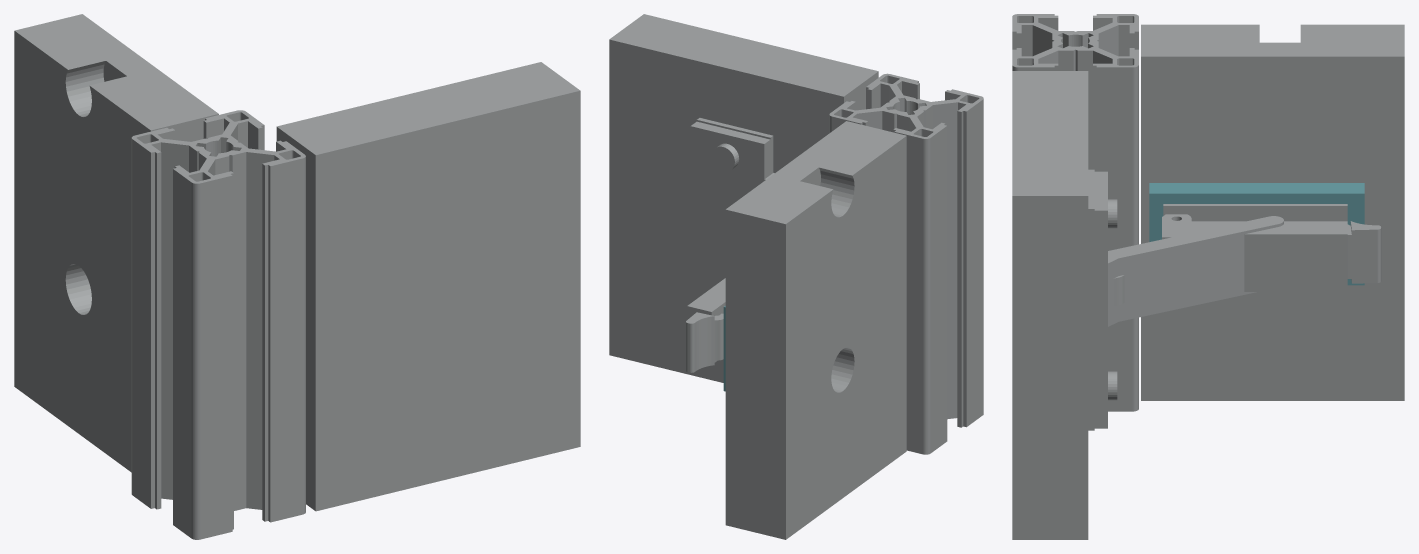
The model's file is hinge-context.glb.
3 views of the same model, side by side, from view 1: azimuth 30°, elevation 25°; view 2: azimuth 150°, elevation 25°; view 3: azimuth 270°, elevation 25° (orthographic). The views are drawn at different scales.
Parts seen in each view (by area): view 1: Left-door-face-18, Post-4-23, Left-pegboard-18; view 2: Left-pegboard-18, Left-door-face-18, Post-4-23, Blum-1-cup-envelope, Blum-1-factory-clip, Blum-1-cup-screw-915.5, Blum-1-70T3507.21-envelope; view 3: Left-pegboard-18, Left-door-face-18, Post-4-23, Blum-1-housing-envelope, Blum-1-factory-clip, Blum-1-spacer-6, Blum-1-cup-envelope, Blum-1-plate-envelope, Blum-1-70T3507.21-envelope.
Boxes of the visible parts, x1=… form: Left-door-face-18: x1=276, y1=62, x2=580, y2=511; Post-4-23: x1=131, y1=110, x2=305, y2=539; Left-pegboard-18: x1=14, y1=14, x2=218, y2=472; Left-pegboard-18: x1=725, y1=121, x2=906, y2=539; Left-door-face-18: x1=609, y1=14, x2=878, y2=382; Post-4-23: x1=829, y1=73, x2=983, y2=454; Blum-1-cup-envelope: x1=690, y1=121, x2=771, y2=302; Blum-1-factory-clip: x1=686, y1=278, x2=725, y2=372; Blum-1-cup-screw-915.5: x1=711, y1=143, x2=739, y2=171; Blum-1-70T3507.21-envelope: x1=696, y1=118, x2=774, y2=175; Left-pegboard-18: x1=1141, y1=24, x2=1404, y2=400; Left-door-face-18: x1=1012, y1=71, x2=1088, y2=539; Post-4-23: x1=1012, y1=14, x2=1138, y2=411; Blum-1-housing-envelope: x1=1108, y1=216, x2=1283, y2=326; Blum-1-factory-clip: x1=1162, y1=214, x2=1381, y2=291; Blum-1-spacer-6: x1=1149, y1=183, x2=1364, y2=285; Blum-1-cup-envelope: x1=1094, y1=171, x2=1107, y2=428; Blum-1-plate-envelope: x1=1163, y1=204, x2=1347, y2=221; Blum-1-70T3507.21-envelope: x1=1088, y1=169, x2=1094, y2=430.
Bounding box in the file's own units: 0.102 × 0.09 × 0.093.
